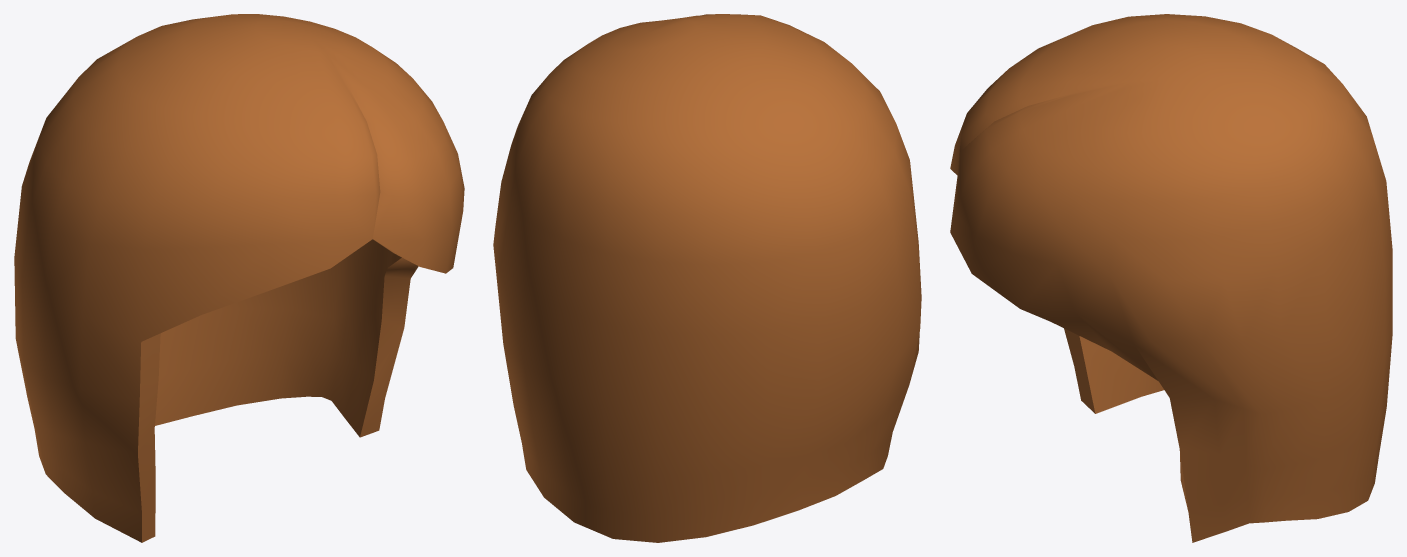
Rendered from rogueHairB.obj.
The picture shows the model from 3 angles, left to right: view 1: azimuth 30°, elevation 25°; view 2: azimuth 150°, elevation 25°; view 3: azimuth 270°, elevation 25°; orthographic projection. The views are drawn at different scales.
Parts seen in each view (by area): view 1: rogueHairB_Cube.3525; view 2: rogueHairB_Cube.3525; view 3: rogueHairB_Cube.3525.
Boxes of the visible parts, x1,y1,x2,y2 form: rogueHairB_Cube.3525: [14, 14, 464, 542]; rogueHairB_Cube.3525: [493, 14, 921, 542]; rogueHairB_Cube.3525: [950, 14, 1392, 542].
Bounding box in the file's own units: 1.12 × 1.22 × 1.09.
